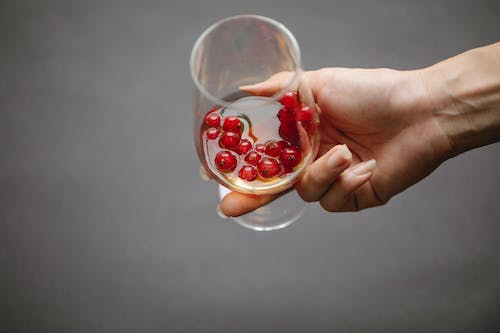alcohol: (188, 14, 322, 232)
